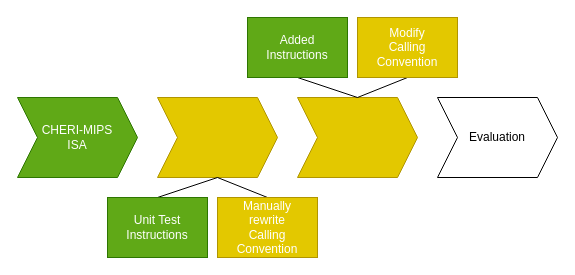
Image size: 575x275. Some labels were removed from this diagram. Here are the shapes that lost their labels. From the top down, the centre of each, then its label:
At (217,137): "CHERITest".
At (357,137): "CLang/LLVM".
